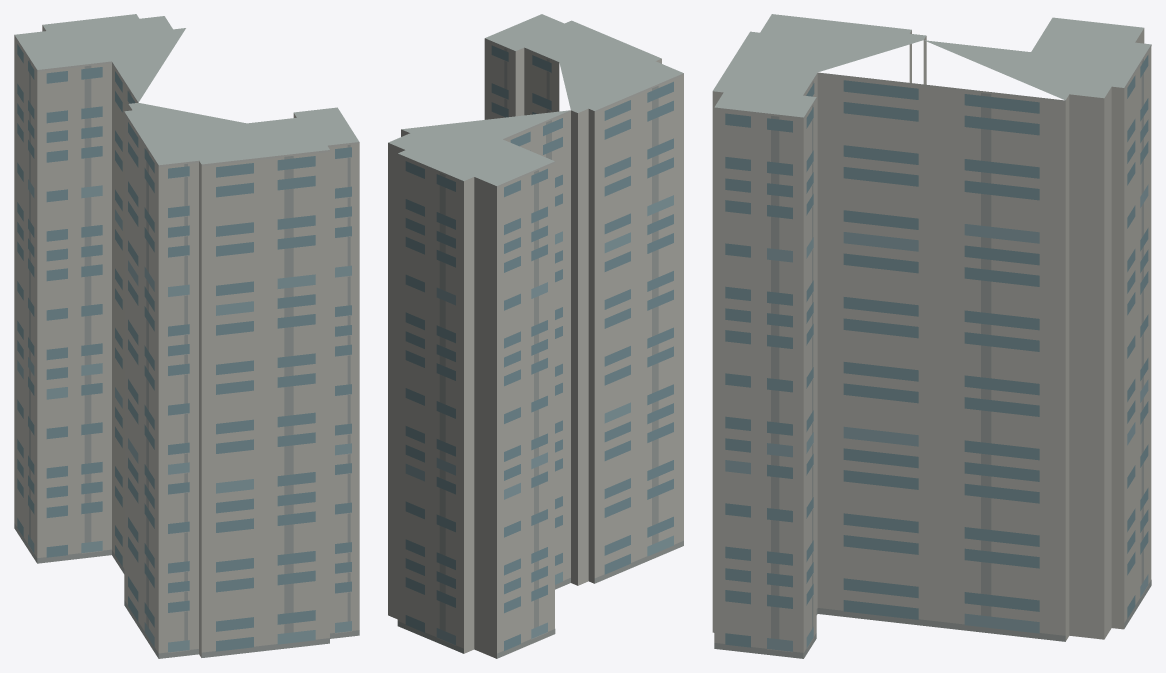
Rendered from residential-cb7e09fe-9dd7-4efb-abdb-74e546b6682e.glb.
The picture shows the model from 3 angles, left to right: view 1: azimuth 30°, elevation 25°; view 2: azimuth 150°, elevation 25°; view 3: azimuth 270°, elevation 25°; orthographic projection. The views are drawn at different scales.
Visible parts, largest first — view 1: residential-cb7e09fe-9dd7-4efb-abdb-74e546b6682e.tmp; view 2: residential-cb7e09fe-9dd7-4efb-abdb-74e546b6682e.tmp; view 3: residential-cb7e09fe-9dd7-4efb-abdb-74e546b6682e.tmp.
Boxes of the visible parts, bbox=[...] form: residential-cb7e09fe-9dd7-4efb-abdb-74e546b6682e.tmp: bbox=[14, 14, 359, 658]; residential-cb7e09fe-9dd7-4efb-abdb-74e546b6682e.tmp: bbox=[388, 14, 683, 658]; residential-cb7e09fe-9dd7-4efb-abdb-74e546b6682e.tmp: bbox=[712, 14, 1151, 658].
Size of the model in its own units: 27.9 by 68 by 49.97.
